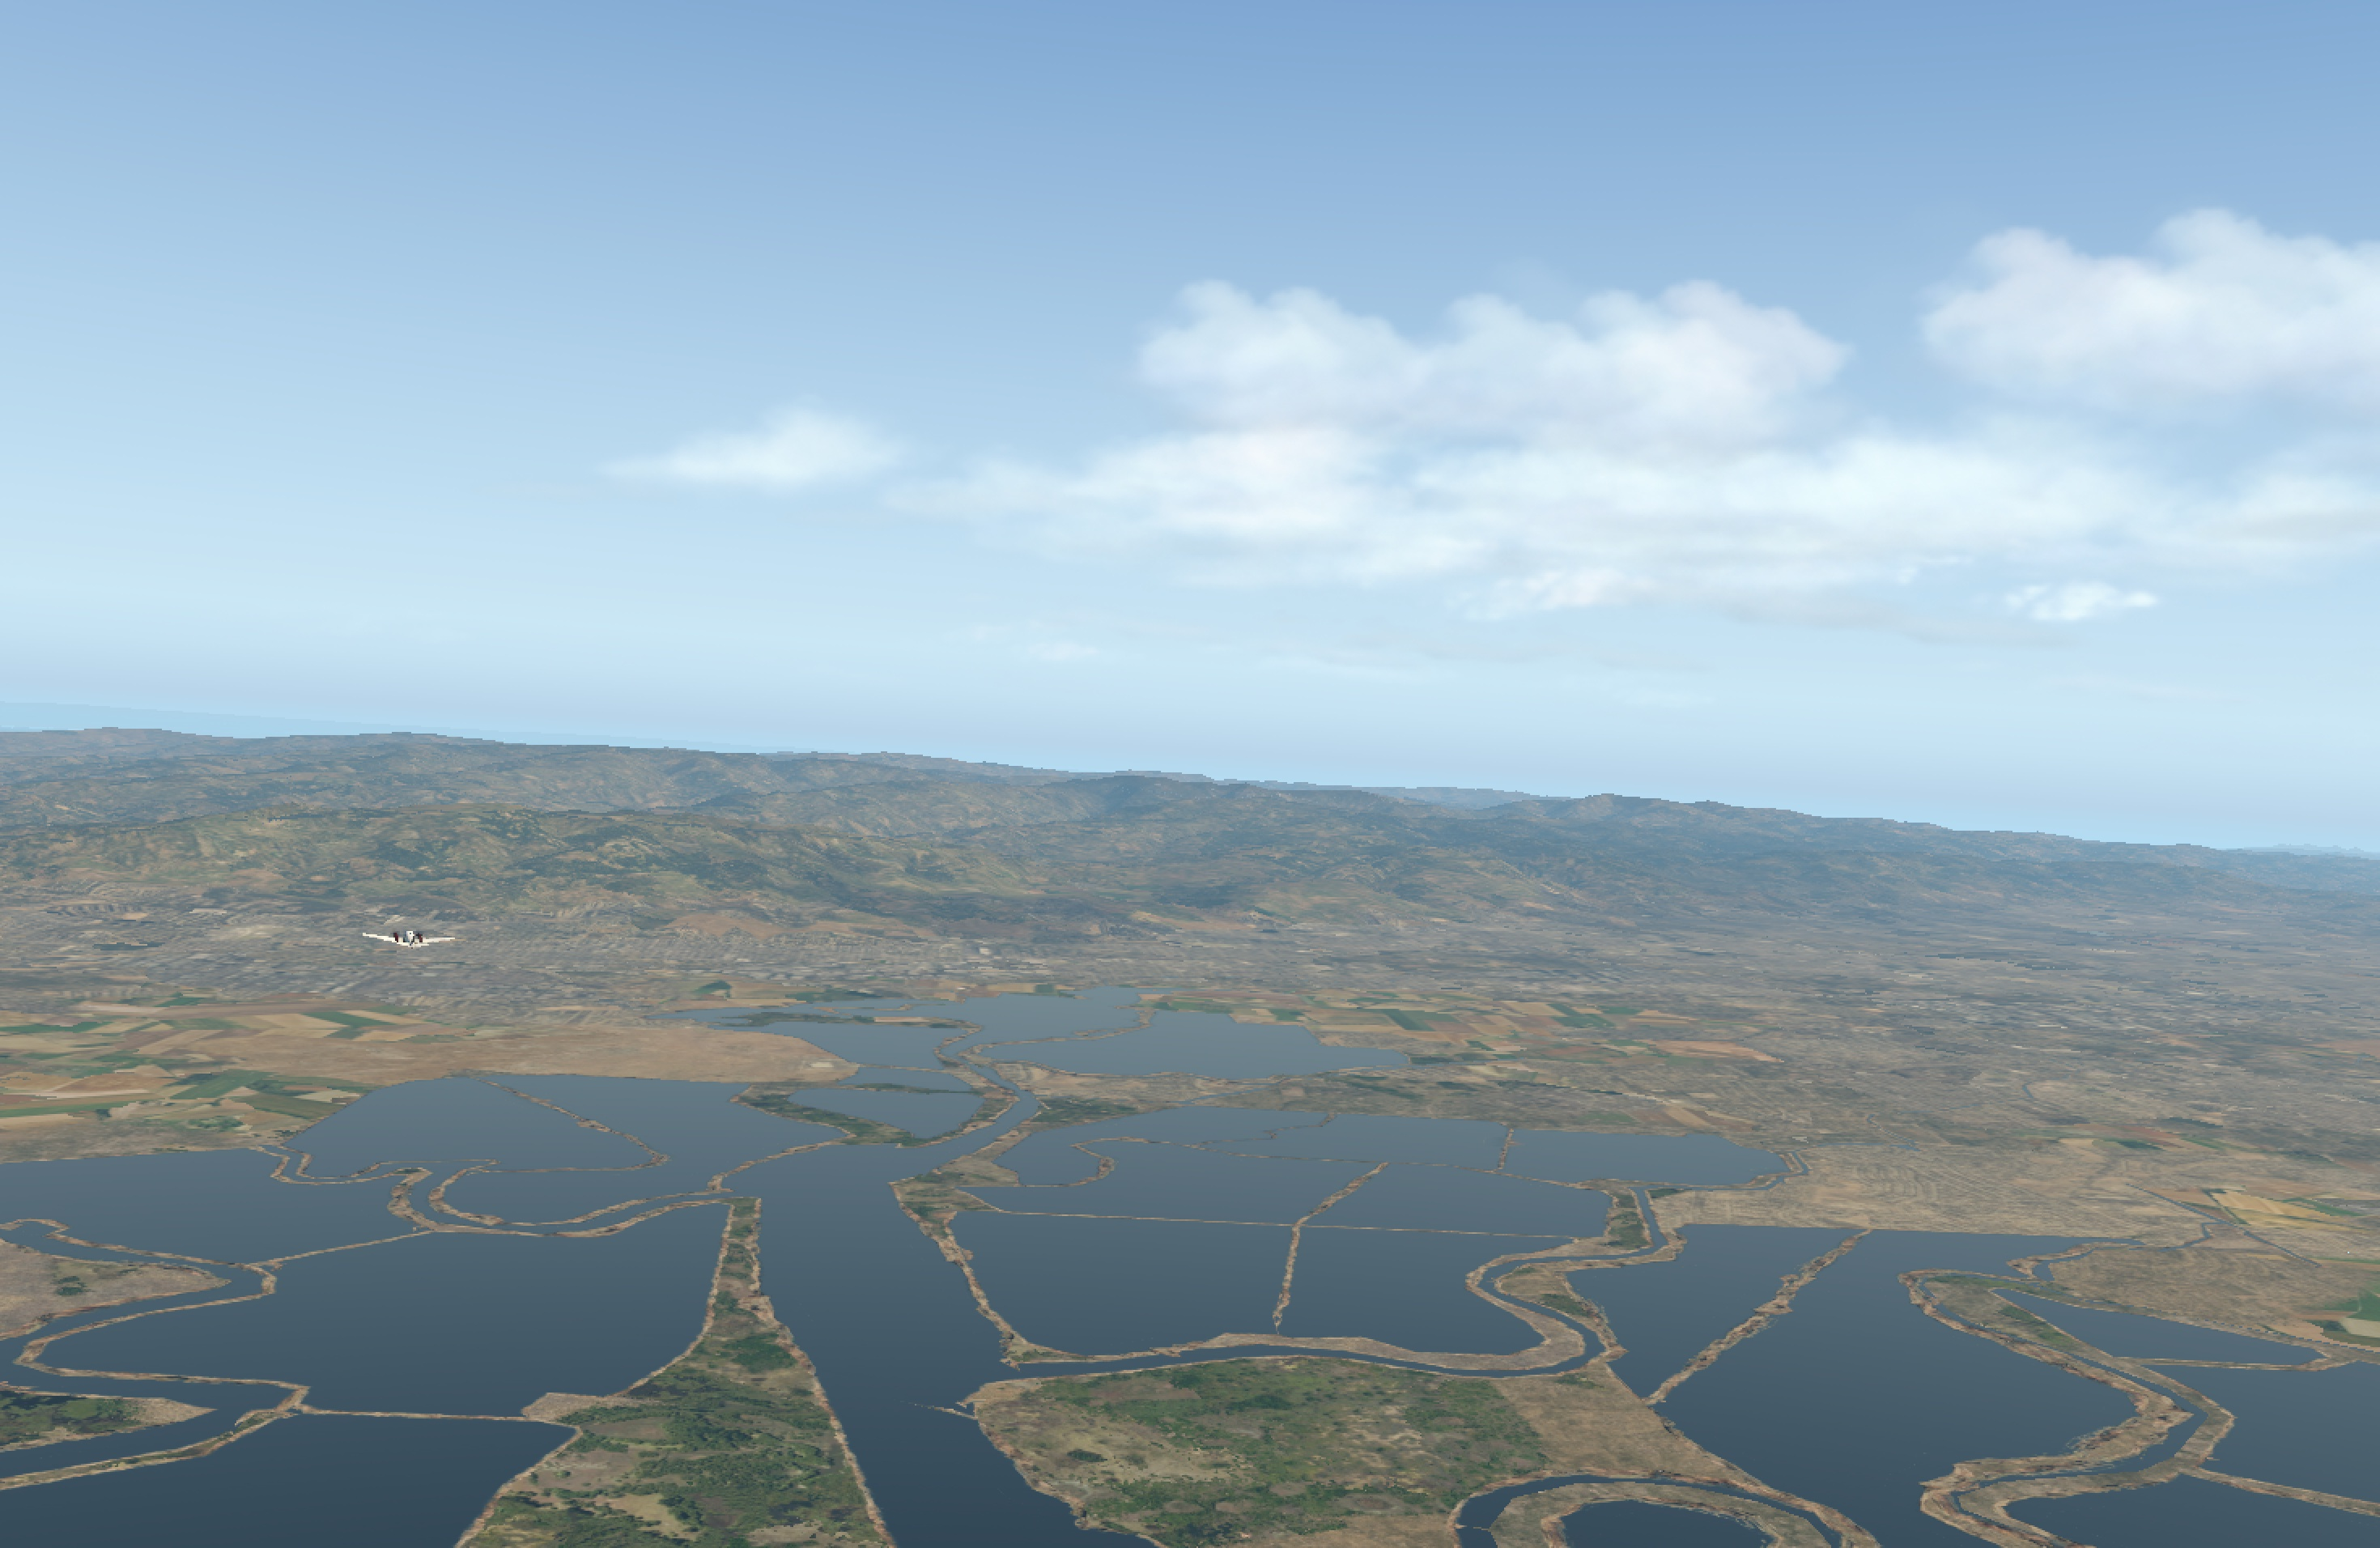aircraft: (366, 925, 449, 956)
